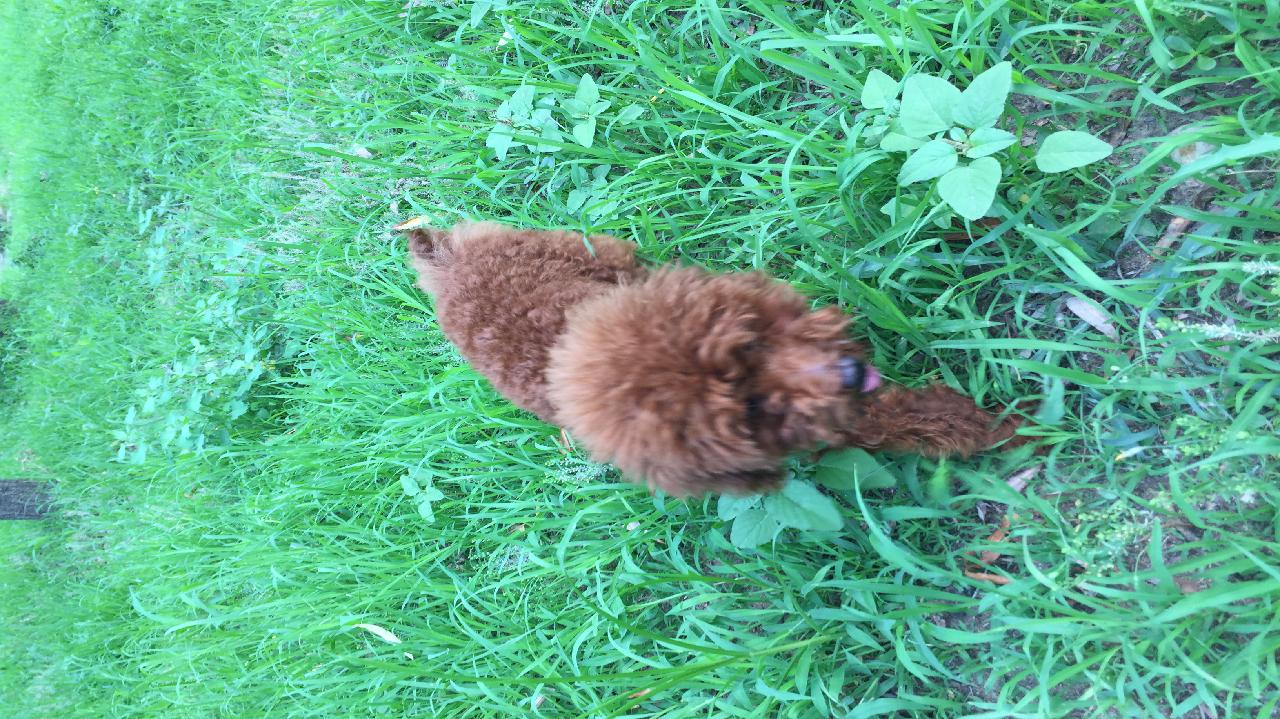coin: (400, 217, 1001, 510)
